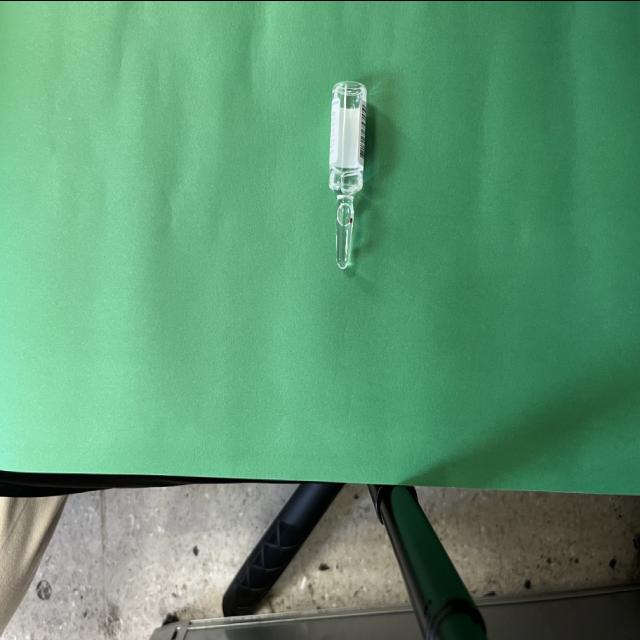Ampoules: (329, 79, 368, 269)
